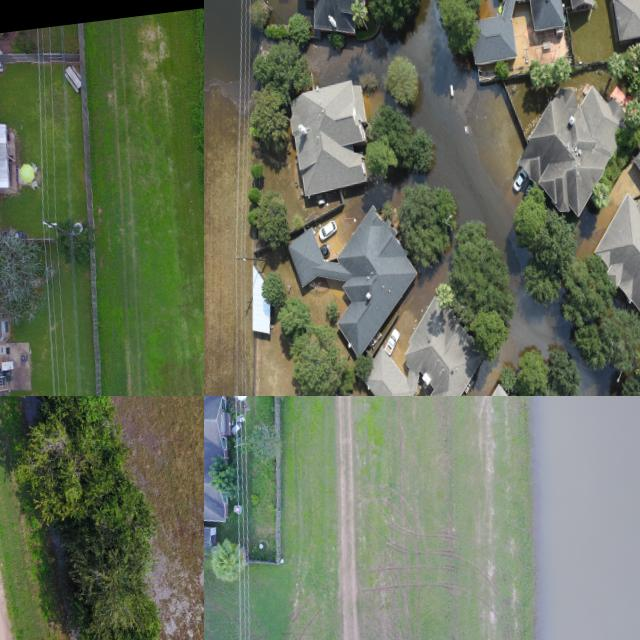fire: (309, 0, 569, 364), (531, 396, 640, 640), (204, 0, 262, 95), (571, 347, 618, 396)
